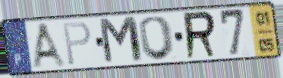7: (217, 8, 248, 59)
A: (31, 21, 70, 69)
M: (97, 15, 146, 67)
O: (137, 14, 177, 62)
P: (61, 20, 93, 68)
R: (182, 10, 219, 62)
